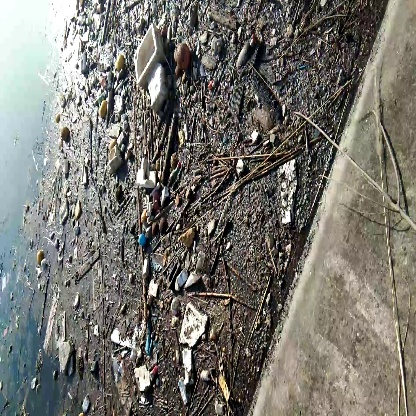plastic-garbage: (129, 23, 181, 110)
